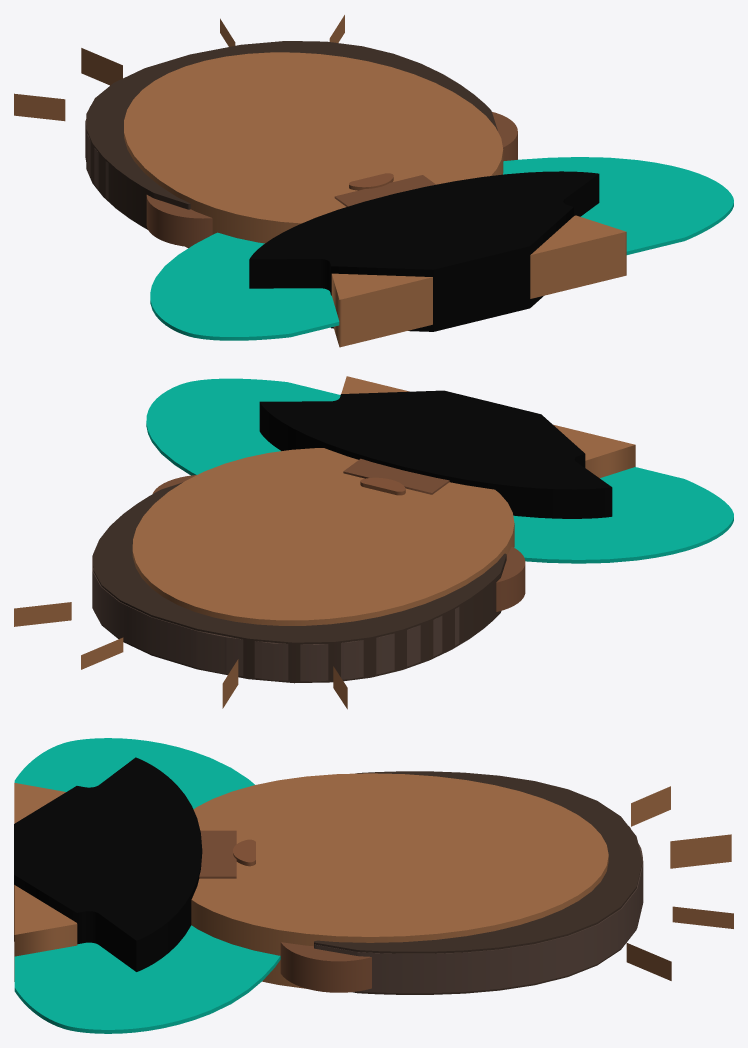
File: emoji_u1f647_1f3fe_200d_2642.glb
3 renders of one model, top to bottom at view 1: azimuth 30°, elevation 25°; view 2: azimuth 150°, elevation 25°; view 3: azimuth 270°, elevation 25°, orthographic. The views are drawn at different scales.
Parts seen in each view (by area): view 1: emoji_u1f647_1f3fe_200d_2642; view 2: emoji_u1f647_1f3fe_200d_2642; view 3: emoji_u1f647_1f3fe_200d_2642.
Part boxes in pixels (left/top/right/bottom): emoji_u1f647_1f3fe_200d_2642: left=14, top=15, right=733, bottom=347; emoji_u1f647_1f3fe_200d_2642: left=14, top=376, right=733, bottom=709; emoji_u1f647_1f3fe_200d_2642: left=14, top=738, right=733, bottom=1033.
Size of the model in its own units: 0.0319 by 0.0034 by 0.0332.
